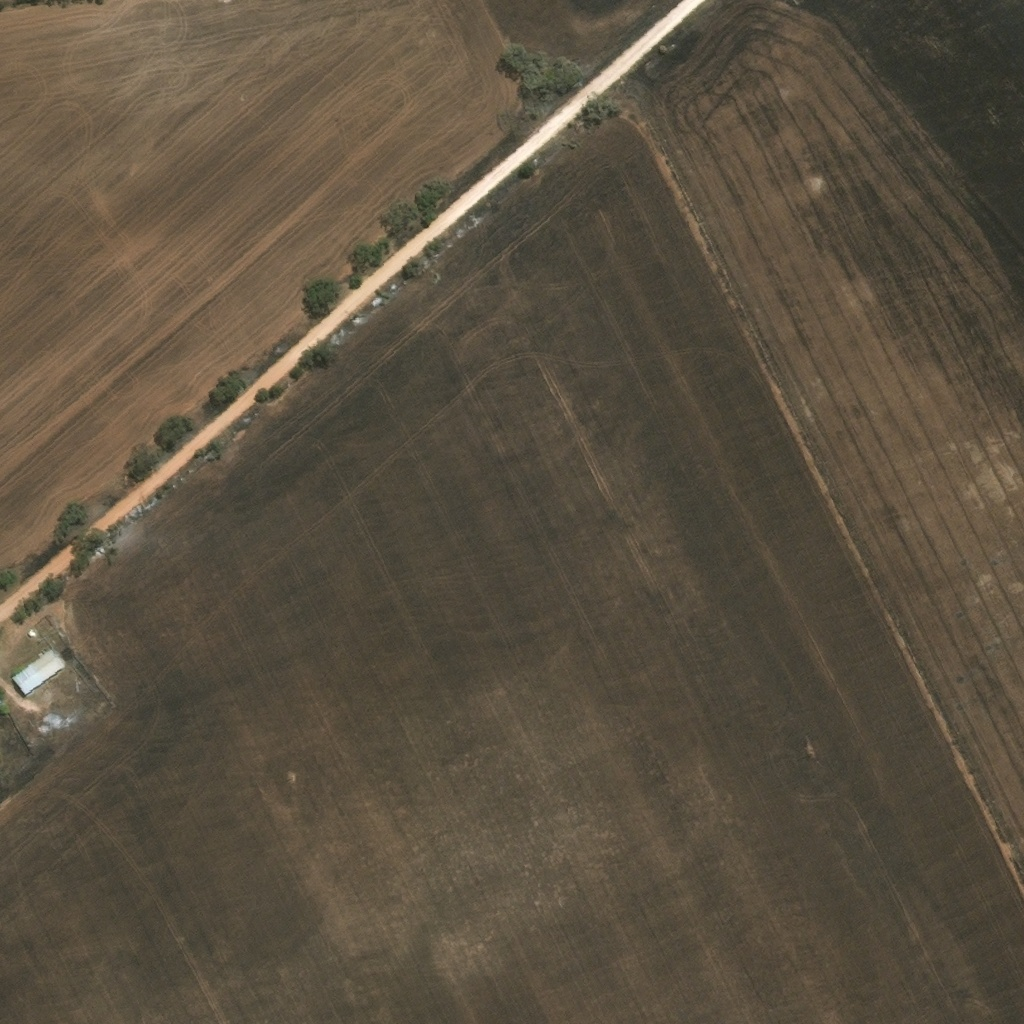0 no-damage: (11, 648, 67, 698), (28, 631, 35, 638)
